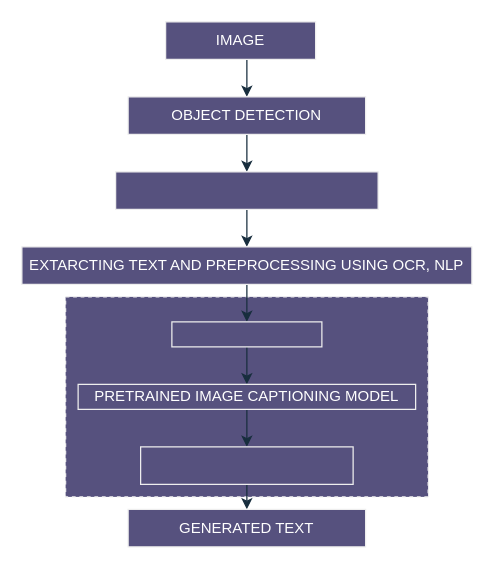
Some shapes in this 494 by 569 pixel diagram are drawn without their labels. The shapes that lost their labels are listed below. From the top down, each one's centre as x and y in pixels, then its label:
At pixel 246 190: "SEPERATE THE OBJECTS".
At pixel 246 334: "ENCODER".
At pixel 246 465: "DECODER".
